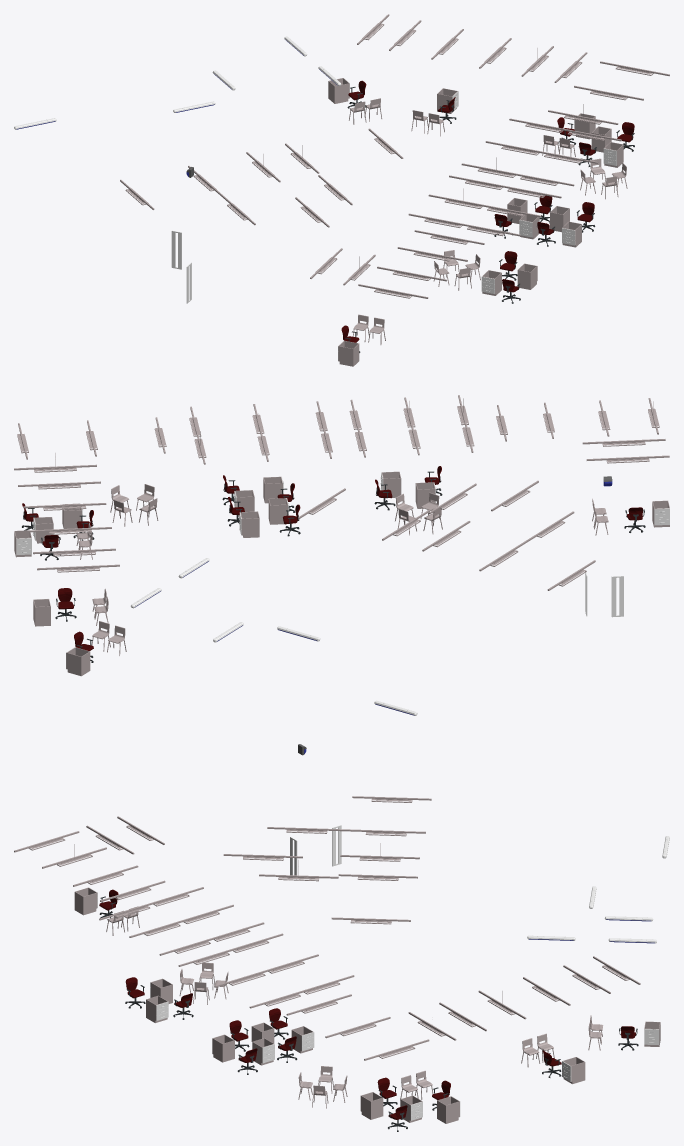
3 views of the same model, one above another, from view 1: azimuth 30°, elevation 25°; view 2: azimuth 150°, elevation 25°; view 3: azimuth 270°, elevation 25° (orthographic). The views are drawn at different scales.
Parts seen in each view (by area): view 1: 0, 1, 3, 2; view 2: 0, 1, 3, 2; view 3: 0, 1, 3, 2.
Part boxes in pixels (x1,y1,x2,y2): 0: (120, 14, 669, 366); 1: (14, 36, 616, 360); 3: (341, 80, 634, 342); 2: (345, 87, 634, 352); 0: (14, 395, 669, 676); 1: (16, 472, 669, 715); 3: (22, 466, 642, 650); 2: (22, 471, 645, 662); 0: (14, 796, 660, 1123); 1: (89, 825, 669, 1120); 3: (99, 889, 635, 1119); 2: (99, 896, 638, 1131).
Size of the model in its own units: 20.8 by 5 by 21.63.
